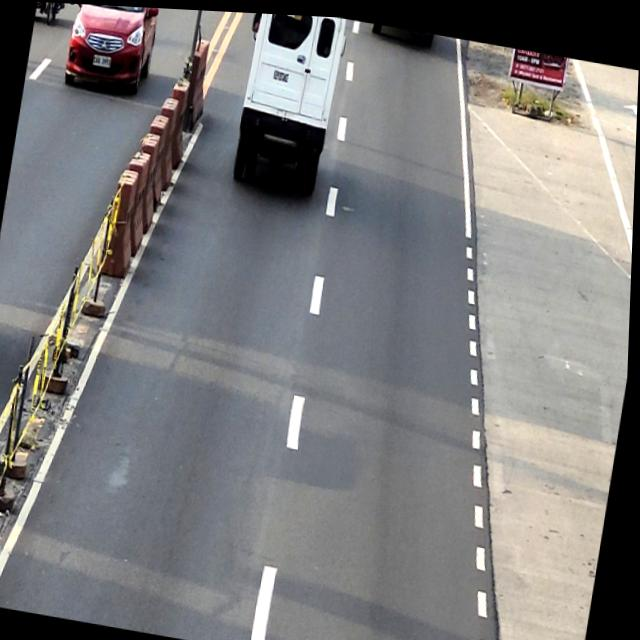Car: (227, 9, 350, 198), (59, 3, 162, 98)
License-Plate: (92, 53, 112, 68)
